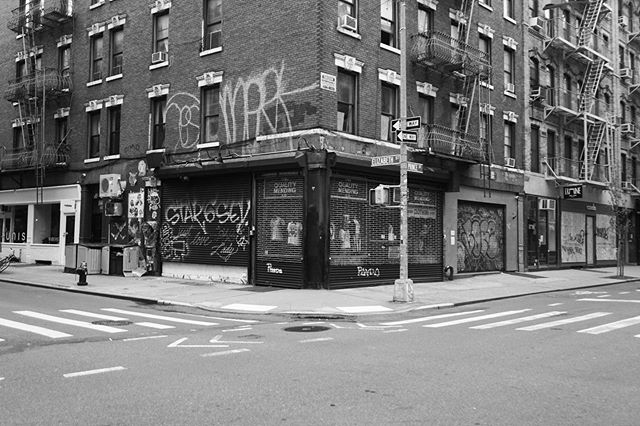building: (1, 1, 640, 260)
crosswalk: (1, 298, 234, 348), (396, 304, 640, 340)
sidewalk: (339, 253, 640, 326), (7, 260, 323, 319)
street: (7, 285, 640, 426)
